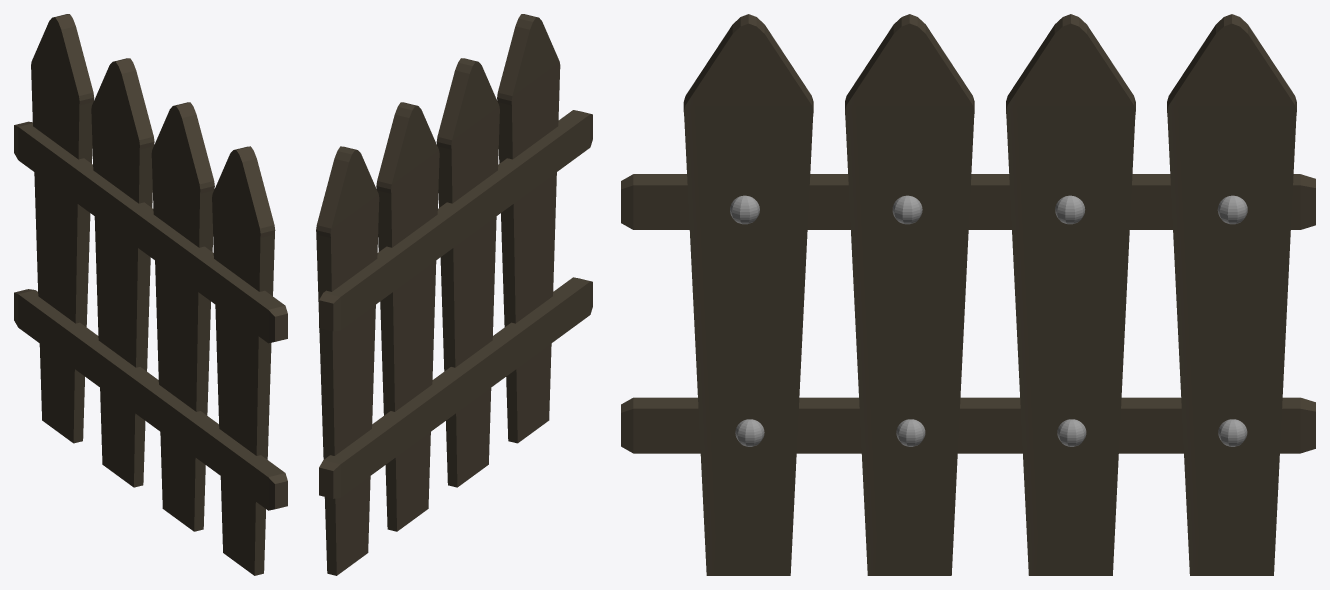
File: Barrière 1.fbx
3 renders of one model, left to right at view 1: azimuth 30°, elevation 25°; view 2: azimuth 150°, elevation 25°; view 3: azimuth 270°, elevation 25°, orthographic. The views are drawn at different scales.
Visible parts, largest first — view 1: BARRI7RE; view 2: BARRI7RE; view 3: BARRI7RE.
Boxes of the visible parts, x1,y1,x2,y2 form: BARRI7RE: (14,14,287,575); BARRI7RE: (316,14,592,575); BARRI7RE: (621,14,1315,575).
Size of the model in its own units: 384 by 28.28 by 338.
Materials: 1 (1 with a texture image).
